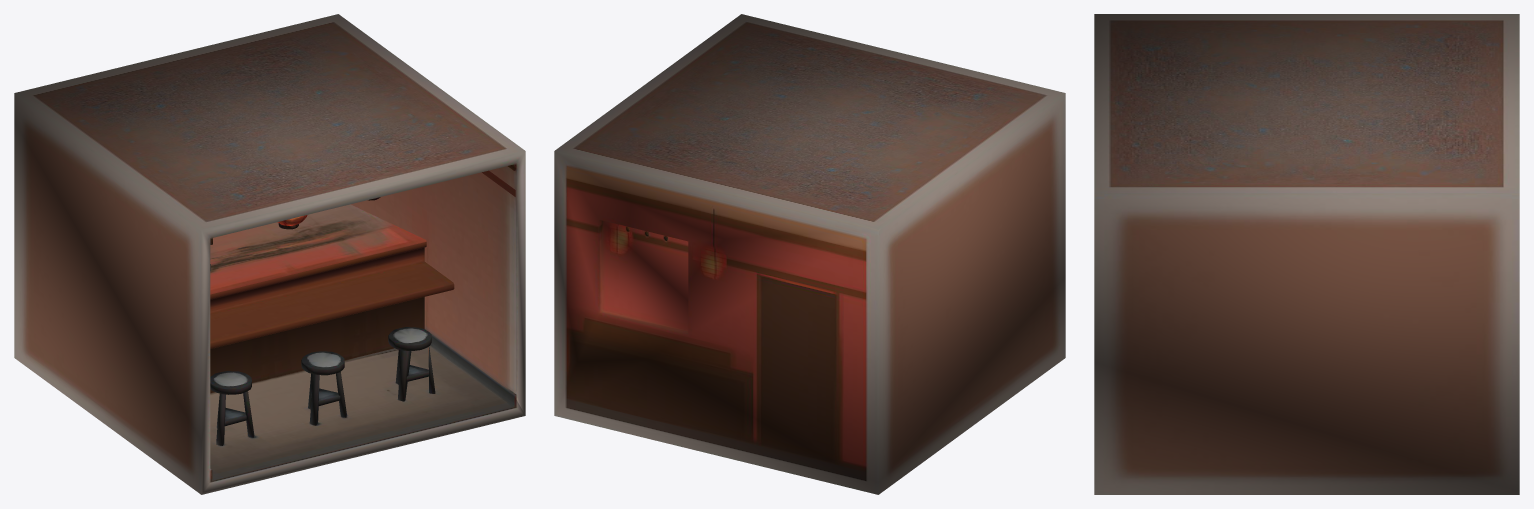
Rendered from original_glb.glb.
The picture shows the model from 3 angles, left to right: view 1: azimuth 30°, elevation 25°; view 2: azimuth 150°, elevation 25°; view 3: azimuth 270°, elevation 25°; orthographic projection. The views are drawn at different scales.
Parts seen in each view (by area): view 1: Restaurant; view 2: Restaurant; view 3: Restaurant.
Part boxes in pixels (left/top/right/bottom): Restaurant: left=14, top=14, right=525, bottom=494; Restaurant: left=554, top=14, right=1065, bottom=494; Restaurant: left=1094, top=14, right=1519, bottom=494.
Size of the model in its own units: 0.998 by 0.7793 by 0.998.
1 material, 1 textured.
